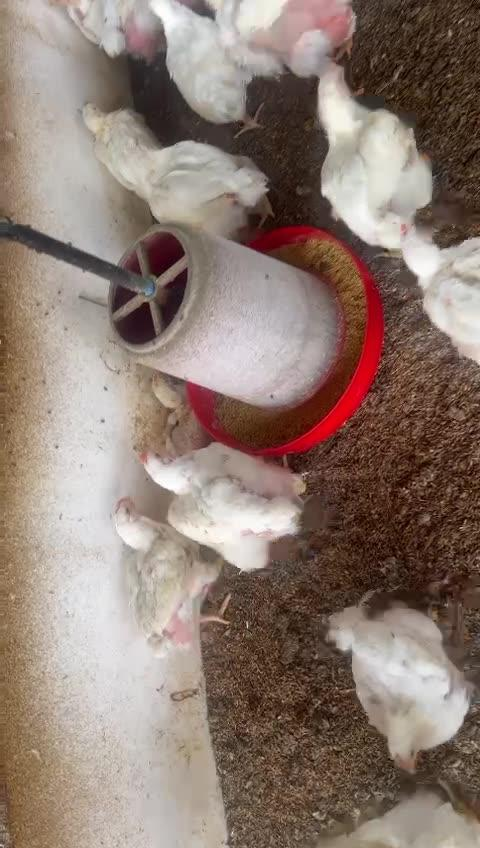AbNormal: (329, 599, 470, 773), (52, 0, 174, 60), (149, 370, 208, 461)
Normal: (312, 60, 433, 251), (137, 445, 302, 573), (117, 492, 226, 640), (124, 132, 274, 231), (149, 0, 262, 127), (400, 219, 480, 368), (234, 0, 359, 77), (317, 789, 480, 848)
